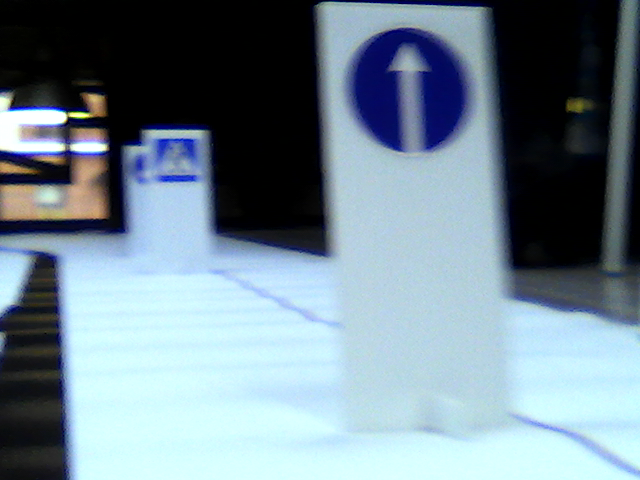forw: (350, 18, 471, 162)
pesh: (154, 136, 201, 183)
